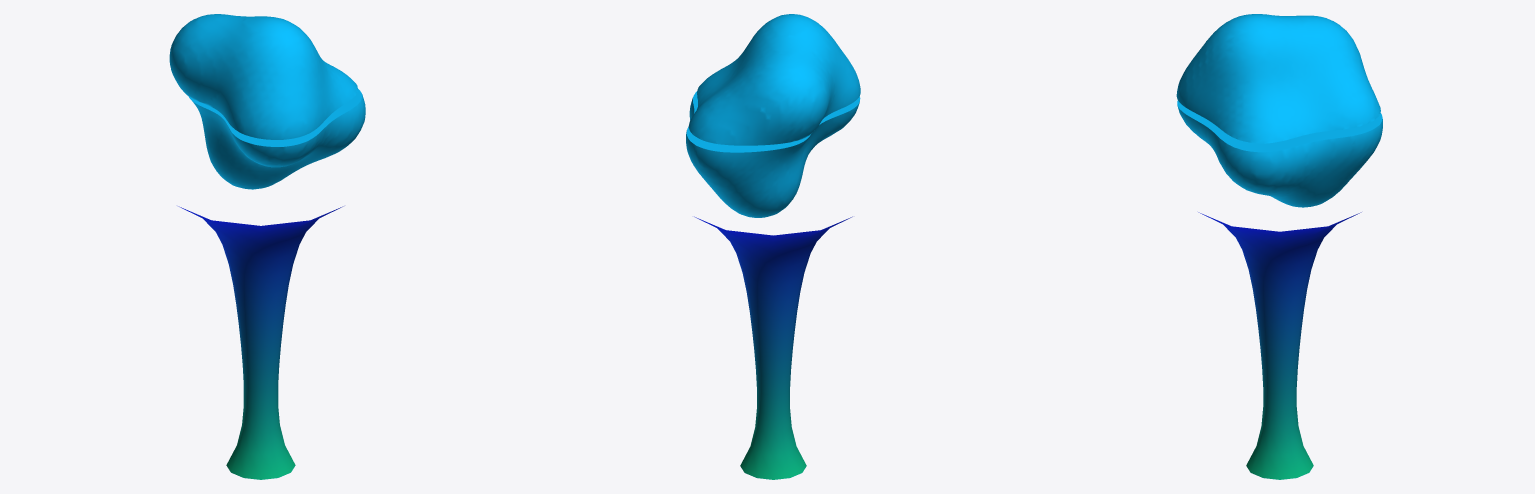
File: station04_and_more.glb
3 renders of one model, left to right at view 1: azimuth 30°, elevation 25°; view 2: azimuth 150°, elevation 25°; view 3: azimuth 270°, elevation 25°, orthographic. The views are drawn at different scales.
Parts seen in each view (by area): view 1: station03_out, station03_tube_out; view 2: station03_out, station03_tube_out; view 3: station03_out, station03_tube_out.
Part boxes in pixels (x1=…): station03_out: x1=169, y1=14, x2=365, y2=189; station03_tube_out: x1=178, y1=206, x2=343, y2=479; station03_out: x1=686, y1=14, x2=860, y2=217; station03_tube_out: x1=694, y1=216, x2=852, y2=479; station03_out: x1=1176, y1=14, x2=1382, y2=207; station03_tube_out: x1=1198, y1=212, x2=1361, y2=479.
Bounding box in the file's own units: 883 × 901 × 883.
2 materials, 1 textured.
